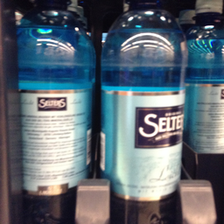water: (100, 2, 185, 224), (16, 2, 97, 224), (185, 1, 224, 157)
